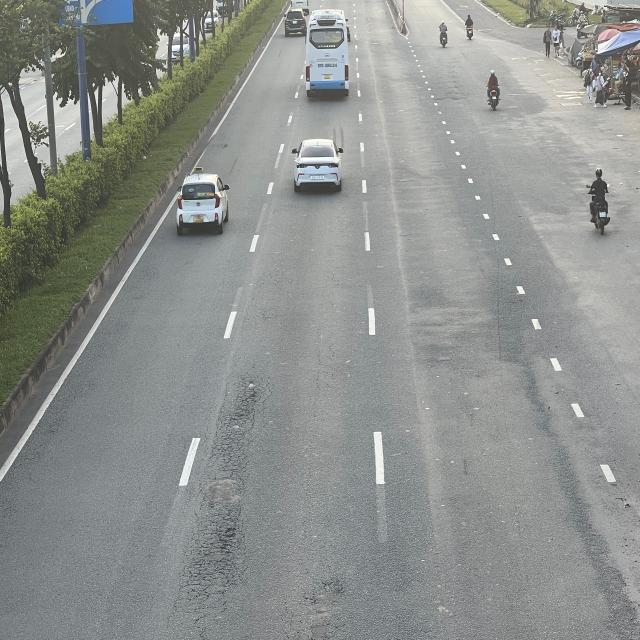car: (177, 174, 231, 231), (291, 139, 345, 191), (283, 6, 307, 37)
coach: (305, 8, 352, 94)
